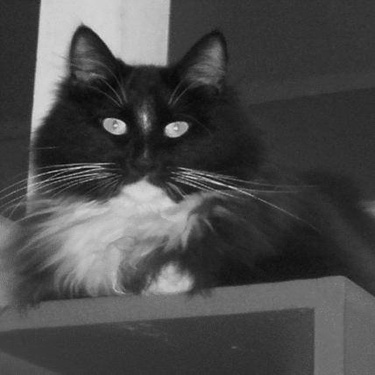cat: (4, 13, 373, 326)
